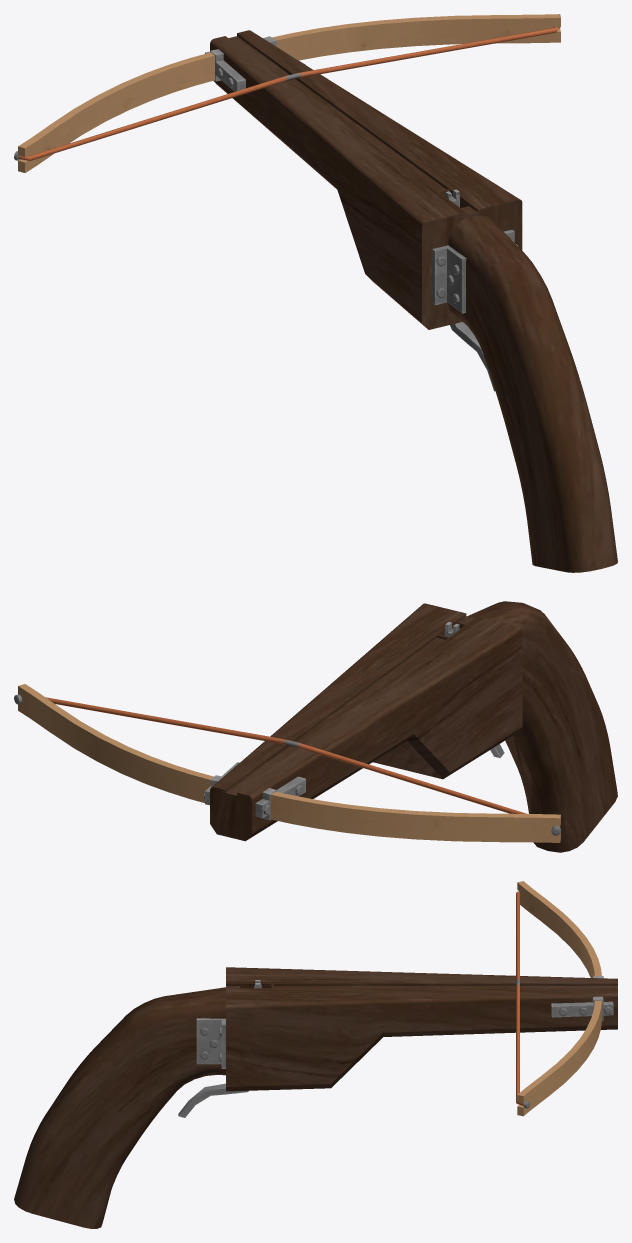
The model's file is hand_xbow.glb.
3 views of the same model, one above another, from view 1: azimuth 30°, elevation 25°; view 2: azimuth 150°, elevation 25°; view 3: azimuth 270°, elevation 25° (orthographic). The views are drawn at different scales.
Parts seen in each view (by area): view 1: Object_290; view 2: Object_290; view 3: Object_290.
Part boxes in pixels (x1,y1,x2,y2): Object_290: (14,14,617,572); Object_290: (14,601,617,852); Object_290: (14,881,617,1228).
Bounding box in the file's own units: 0.3648 × 0.1891 × 0.4291.
Materials: 1 (1 with a texture image).
